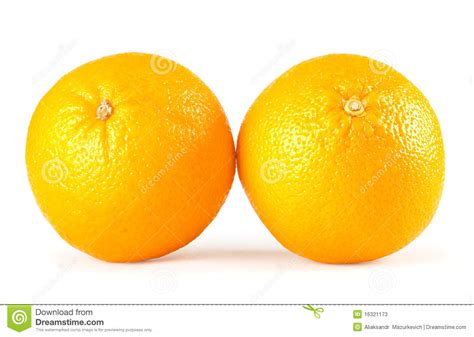orange: (22, 48, 235, 266), (236, 52, 446, 267)
